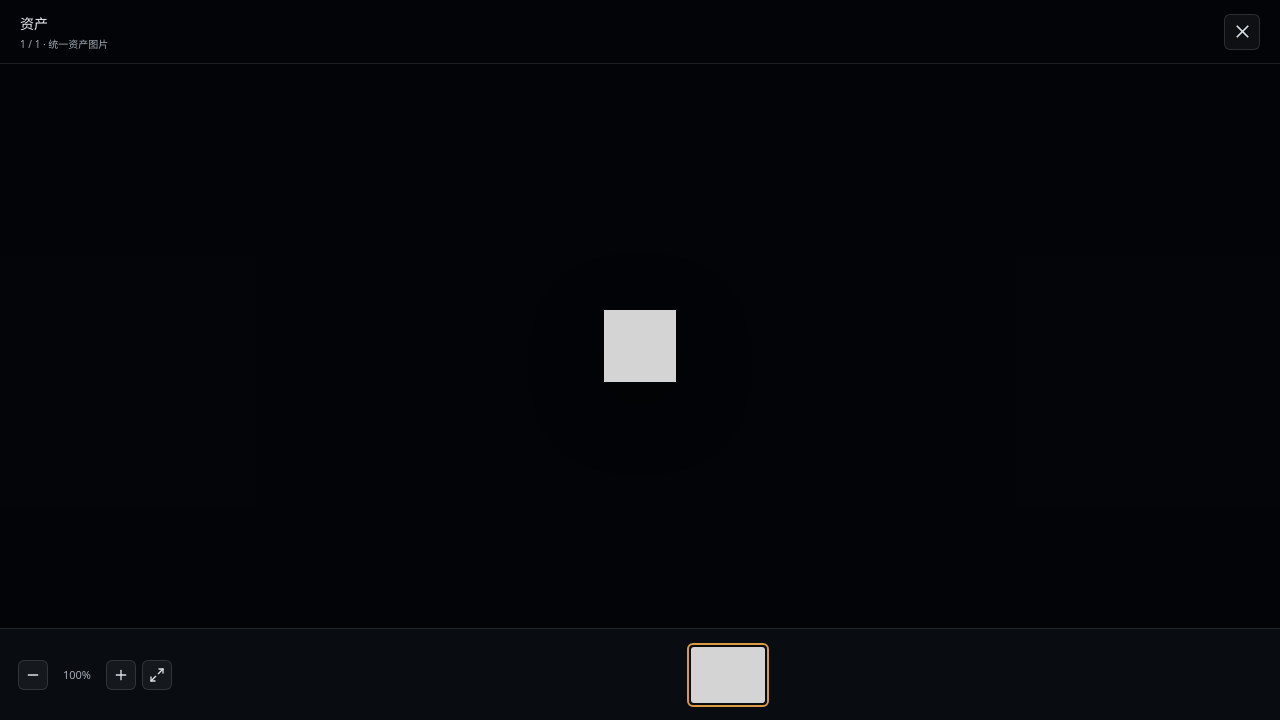
Test: ImageLightbox › uses the UUID media file protocol and retains zoom for core images
Click the button named "放大" at (121, 674), box [106,660,136,690]
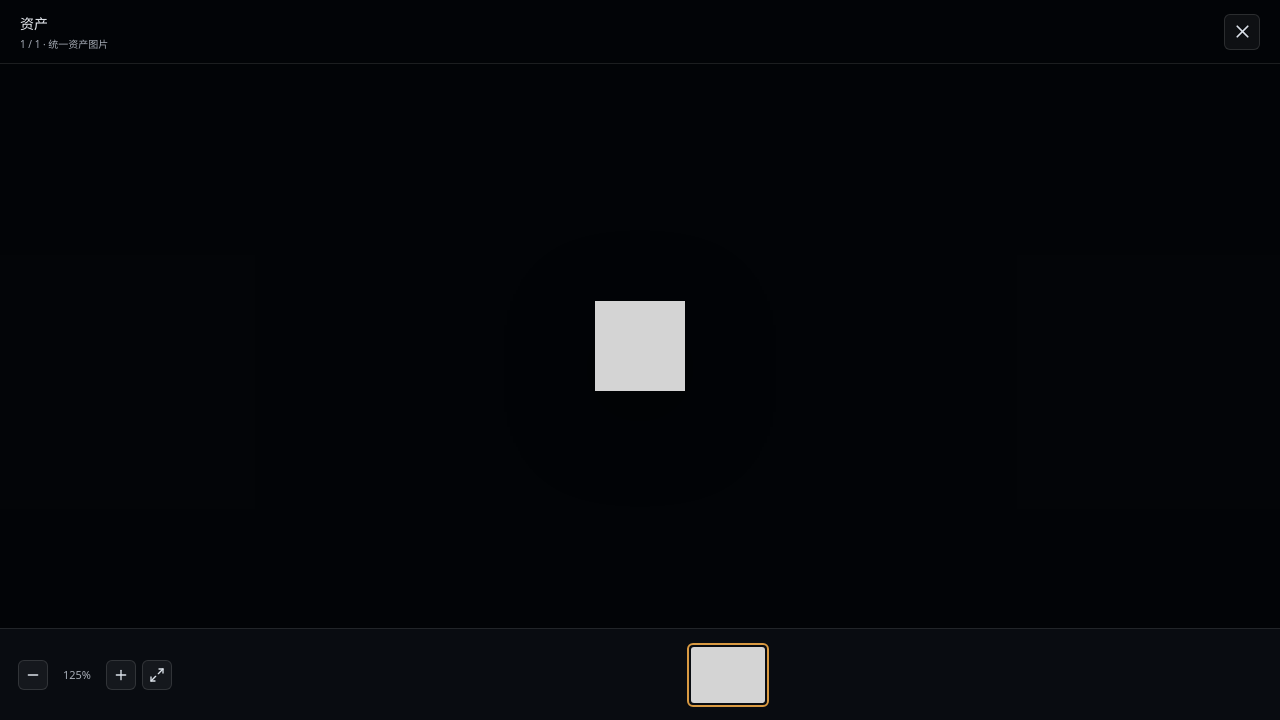
Result: the text "125%" is shown at [63,667,91,682]
